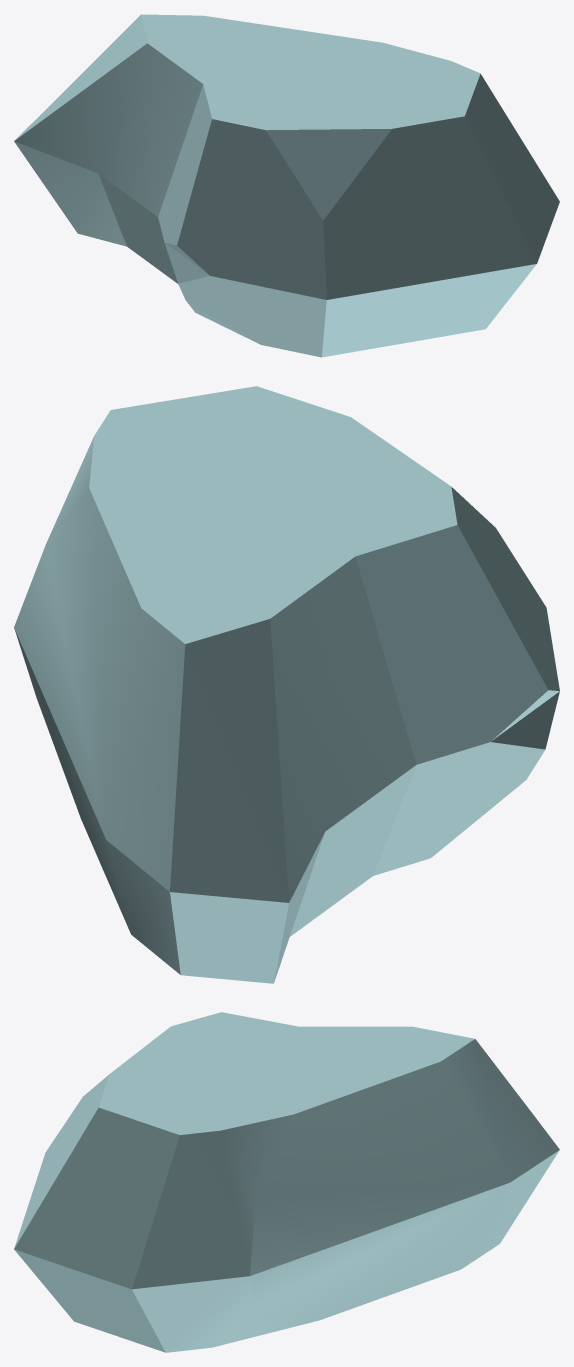
Rendered from stone_large2.obj.
The picture shows the model from 3 angles, top to bottom: view 1: azimuth 30°, elevation 25°; view 2: azimuth 150°, elevation 25°; view 3: azimuth 270°, elevation 25°; orthographic projection. The views are drawn at different scales.
Visible parts, largest first — view 1: stone_large2; view 2: stone_large2; view 3: stone_large2.
Part boxes in pixels (x1,y1,x2,y2): stone_large2: (14,14,559,357); stone_large2: (14,386,559,983); stone_large2: (14,1012,559,1352).
Size of the model in its own units: 7.67 by 4.3 by 10.15.
